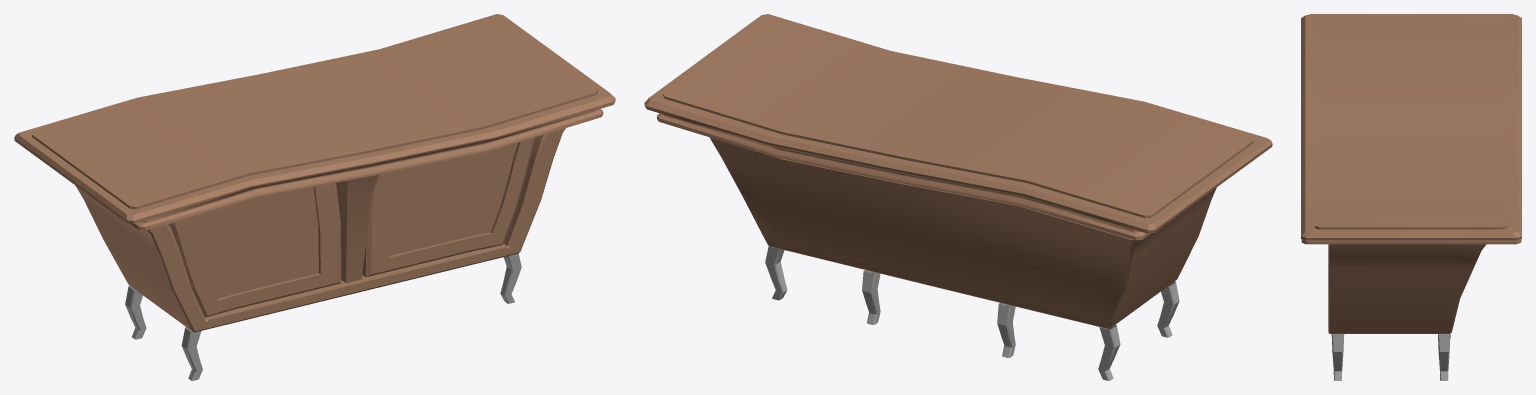
File: Commode_01_taille.fbx
The picture shows the model from 3 angles, left to right: view 1: azimuth 30°, elevation 25°; view 2: azimuth 150°, elevation 25°; view 3: azimuth 270°, elevation 25°; orthographic projection. The views are drawn at different scales.
Visible parts, largest first — view 1: pCube95; view 2: pCube95; view 3: pCube95.
Part boxes in pixels (x1=…): pCube95: x1=14, y1=14, x2=615, y2=380; pCube95: x1=644, y1=14, x2=1272, y2=380; pCube95: x1=1301, y1=14, x2=1521, y2=380.
Size of the model in its own units: 2.68 by 1.07 by 1.12.
